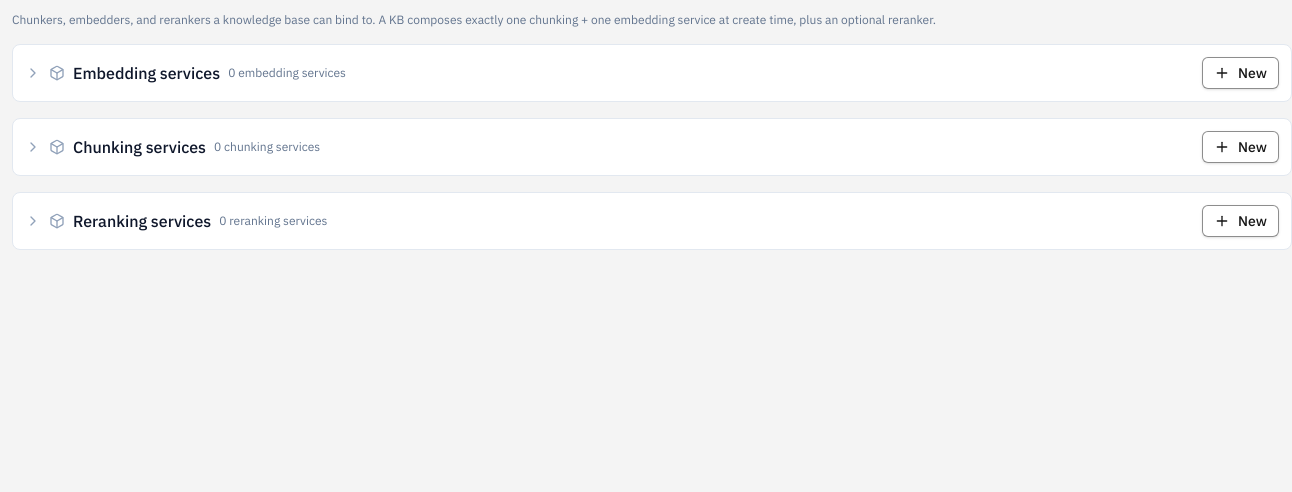
Test: ServicesPanel › surfaces the error message and a retry affordance when a list query fails
This screenshot has width=1292, height=492.
What coordinates should you click on to do the following:
click the button "Embedding services 0 embedding services"
I would click on:
 (147, 73)
Its box is [25, 61, 1190, 85].
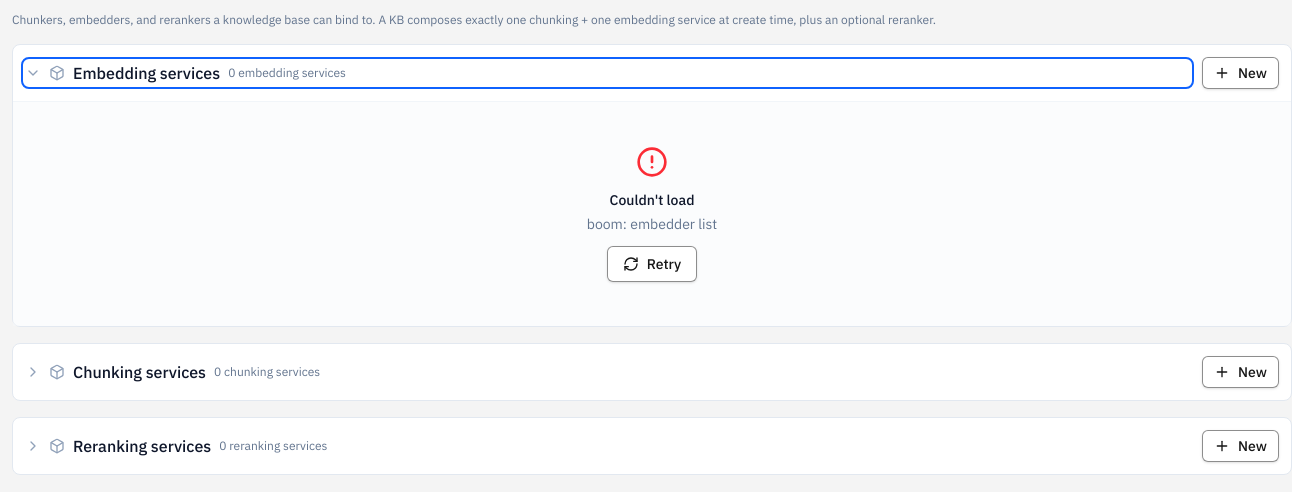
Expected: the text "Couldn't load" is shown, [610, 191, 694, 209]
Expected: the text "boom: embedder list" is shown, [587, 214, 717, 234]
Expected: the button "Retry" is shown, [607, 246, 697, 282]
